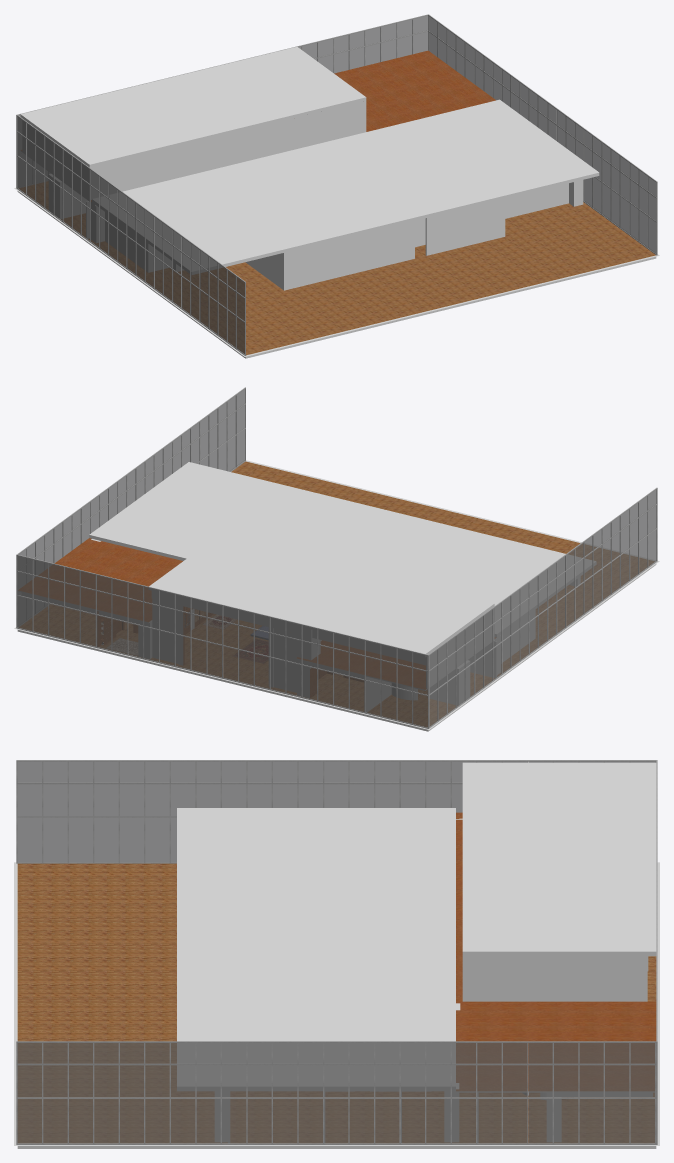
File: ELJ_ARQ.glb
3 views of the same model, one above another, from view 1: azimuth 30°, elevation 25°; view 2: azimuth 150°, elevation 25°; view 3: azimuth 270°, elevation 25° (orthographic). The views are drawn at different scales.
Visible parts, largest first — view 1: ARQ_2_2, ARQ_2_1, ARQ_1_3, ARQ_0_1, ARQ_4_1, ARQ_1_1, ARQ_2_3, ARQ_3_1, ARQ_0_3, ARQ_0_2; view 2: ARQ_2_2, ARQ_2_3, ARQ_1_3, ARQ_2_1, ARQ_0_1, ARQ_4_1, ARQ_0_3, ARQ_3_2, ARQ_3_3, ARQ_1_1, ARQ_0_2; view 3: ARQ_2_2, ARQ_2_1, ARQ_4_1, ARQ_1_3, ARQ_0_1, ARQ_3_3, ARQ_3_2, ARQ_2_3, ARQ_3_1.
Boxes of the visible parts, <box> form: ARQ_2_2: <box>21,50,599,274</box>; ARQ_2_1: <box>14,181,659,358</box>; ARQ_1_3: <box>20,47,366,199</box>; ARQ_0_1: <box>17,115,245,355</box>; ARQ_4_1: <box>428,14,657,255</box>; ARQ_1_1: <box>105,212,414,290</box>; ARQ_2_3: <box>16,14,428,188</box>; ARQ_3_1: <box>425,180,583,255</box>; ARQ_0_3: <box>49,174,87,218</box>; ARQ_0_2: <box>86,201,104,242</box>; ARQ_2_2: <box>18,462,596,690</box>; ARQ_2_3: <box>16,554,429,728</box>; ARQ_1_3: <box>149,536,494,697</box>; ARQ_2_1: <box>14,460,659,731</box>; ARQ_0_1: <box>428,487,657,728</box>; ARQ_4_1: <box>17,387,245,626</box>; ARQ_0_3: <box>366,660,469,711</box>; ARQ_3_2: <box>91,539,194,665</box>; ARQ_3_3: <box>22,593,138,655</box>; ARQ_1_1: <box>503,610,535,661</box>; ARQ_0_2: <box>469,636,500,677</box>; ARQ_2_2: <box>177,808,656,1102</box>; ARQ_2_1: <box>14,862,659,1148</box>; ARQ_4_1: <box>16,1041,656,1144</box>; ARQ_1_3: <box>462,762,656,1001</box>; ARQ_0_1: <box>16,760,656,863</box>; ARQ_3_3: <box>547,1093,652,1141</box>; ARQ_3_2: <box>401,985,647,1142</box>; ARQ_2_3: <box>656,760,657,1144</box>; ARQ_3_1: <box>215,1091,324,1142</box>.
Size of the model in its own units: 40.11 by 7.1 by 38.58.
Materials: 76 (44 with a texture image).
